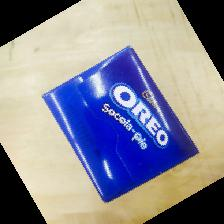Oreo: (42, 45, 202, 205)
